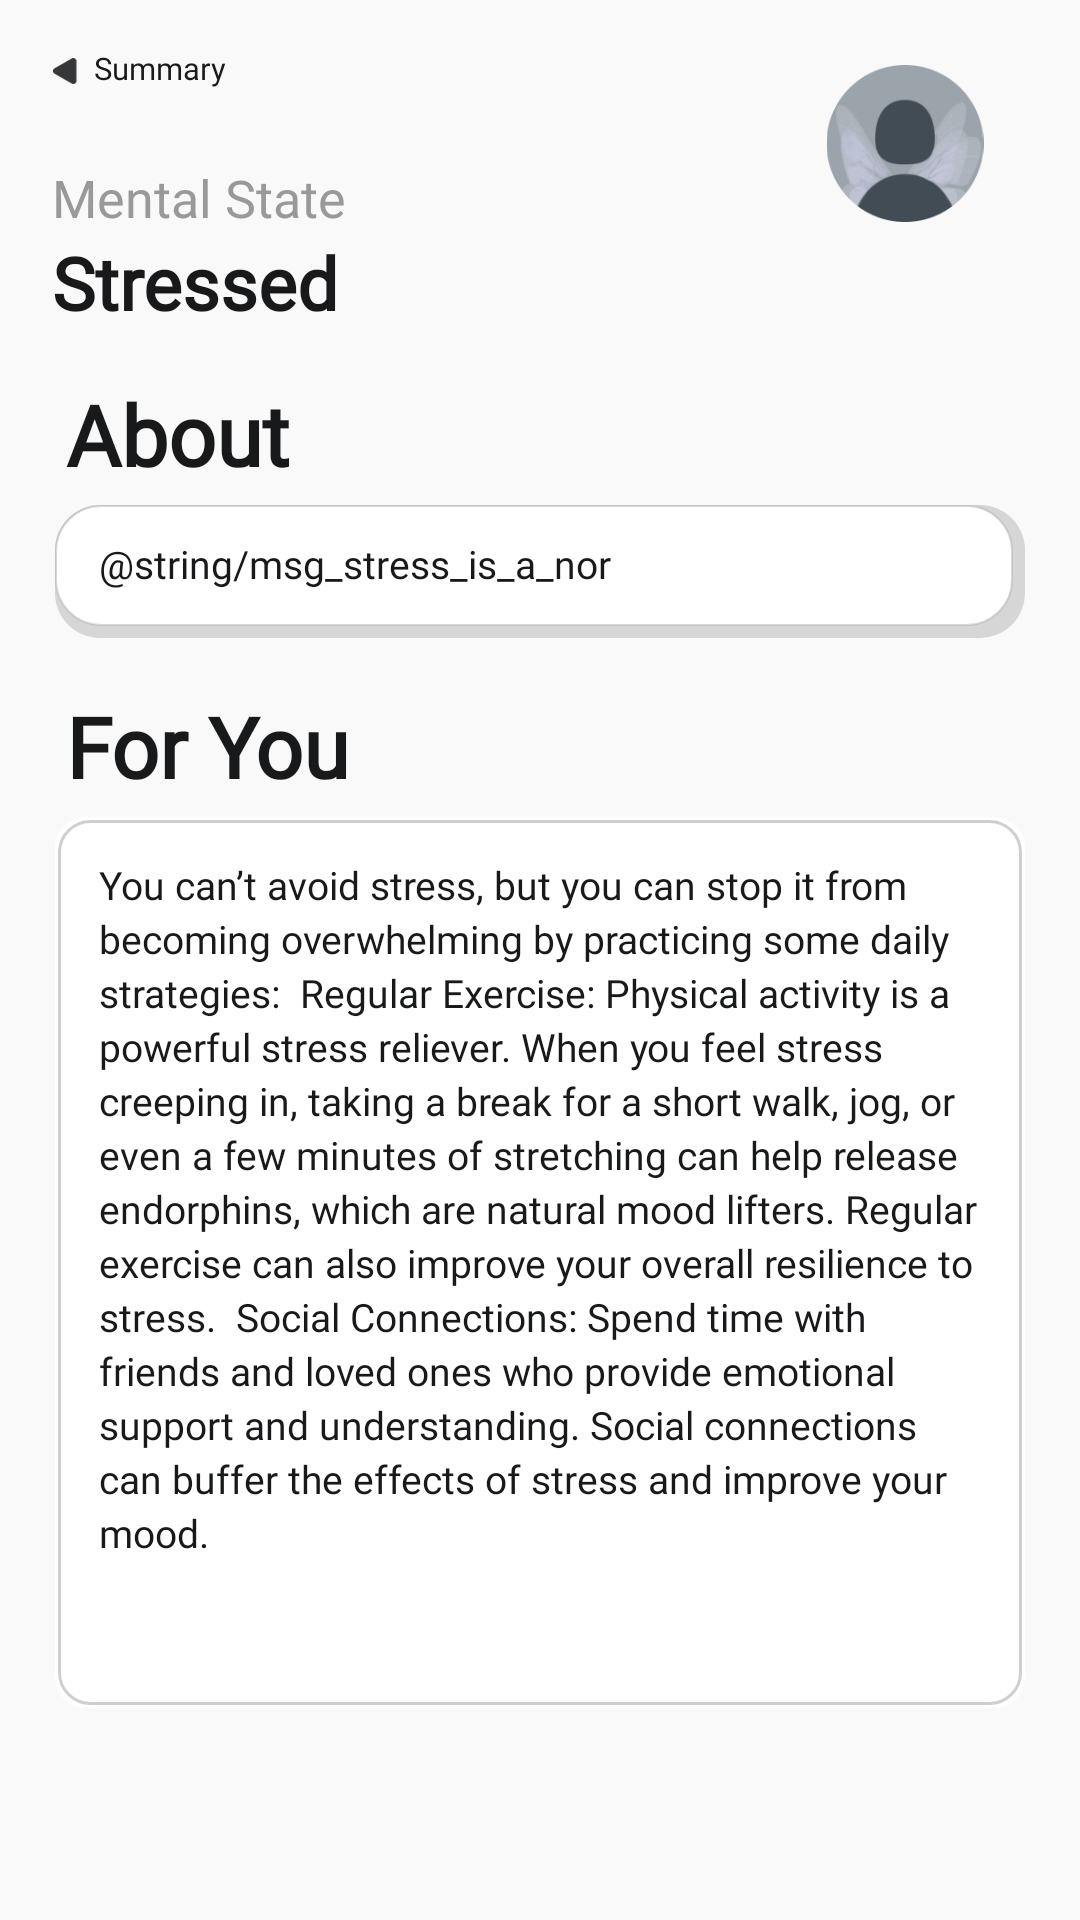

Icon bounding boxes for this 1080x1920 phone screenshot, format (left=x1, top=y1, right=x2, bottom=y2):
arrowleft: (left=53, top=58, right=77, bottom=84)
profilepic: (left=827, top=65, right=984, bottom=222)
